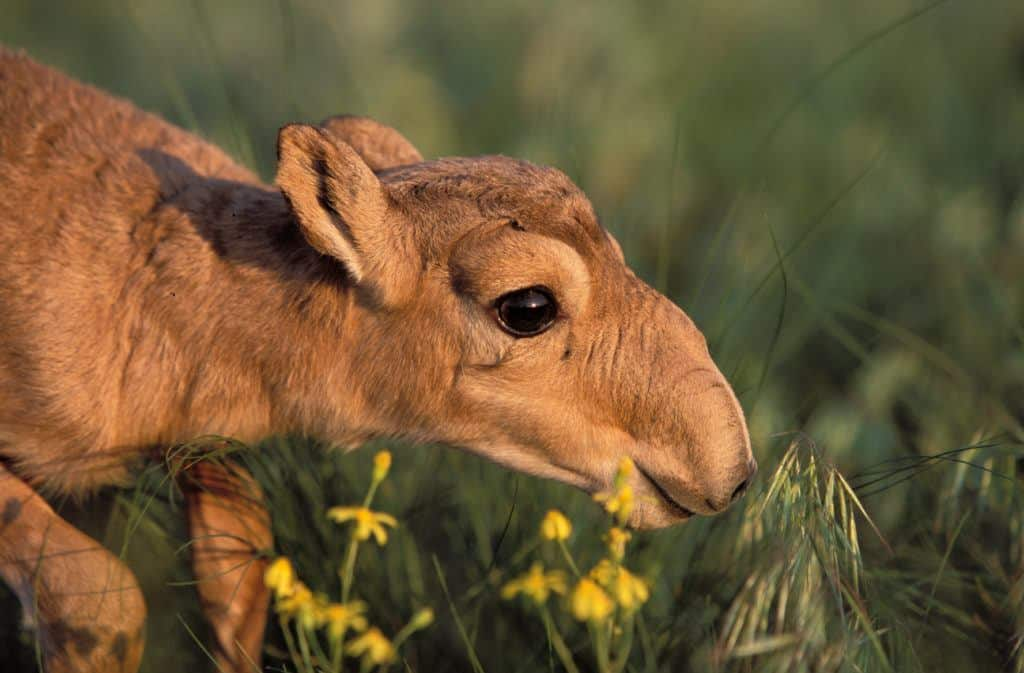saiga: (1, 43, 757, 673)
